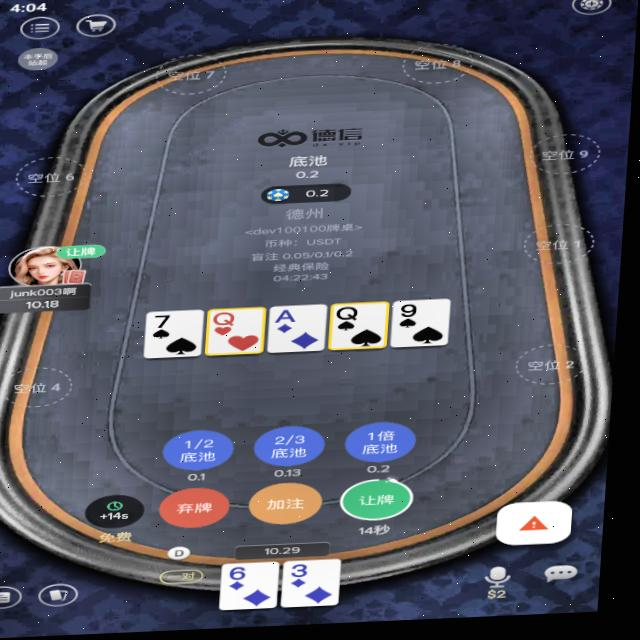3f: (295, 565, 321, 582)
6f: (235, 568, 257, 584)
7s: (157, 313, 180, 332)
9s: (399, 306, 427, 323)
Af: (277, 311, 303, 327)
Qh: (216, 313, 243, 330)
Qs: (338, 309, 364, 326)
